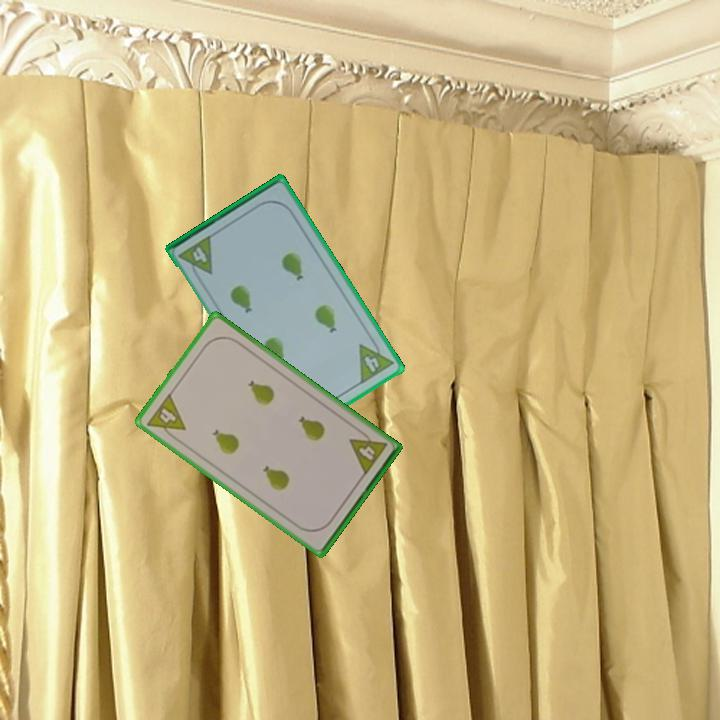4p: (143, 390, 189, 444), (346, 425, 390, 478), (355, 334, 397, 387), (175, 232, 216, 283)
